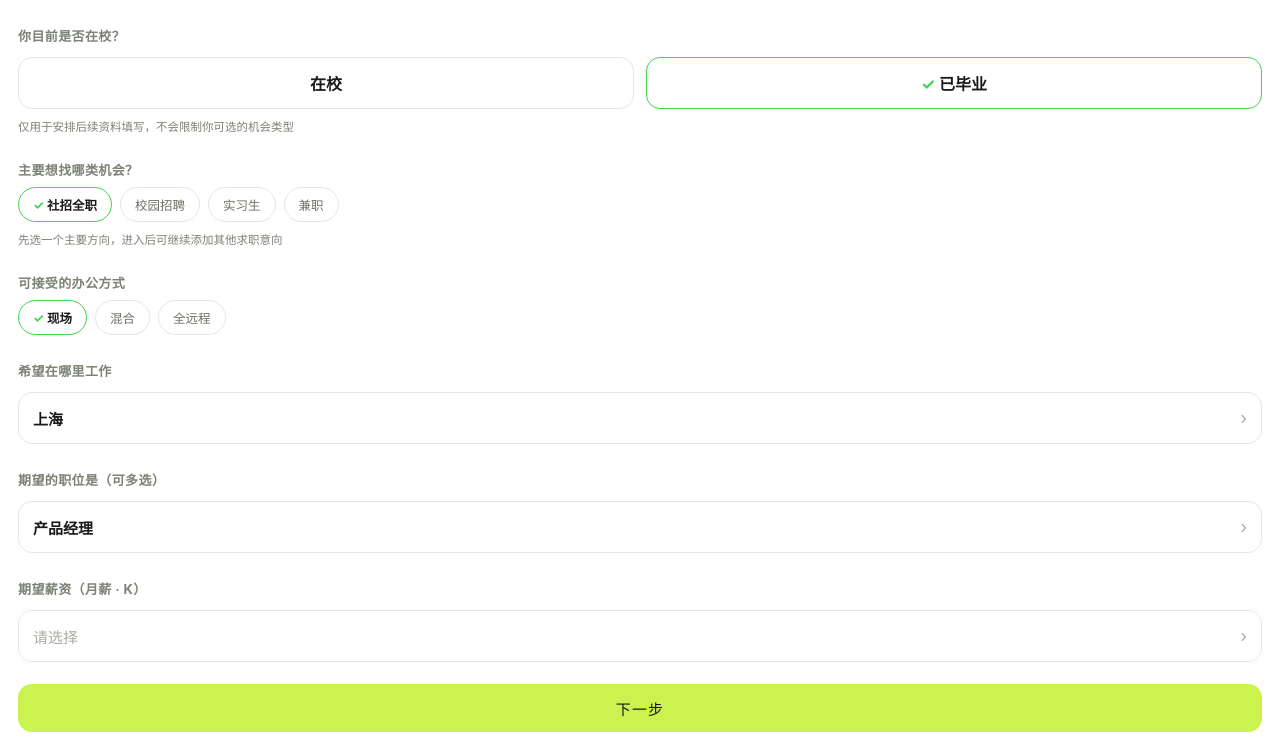
Test: 学生分流 · 首屏期望薪资（Task 3） › 打开抽屉确定区间：一次 存薪资预填，带当前周期与当前城市/职位 refs
(page scrolled)
Click the button with aria-label "期望薪资": [56, 637] box [18,610,1262,662]
(page scrolled)
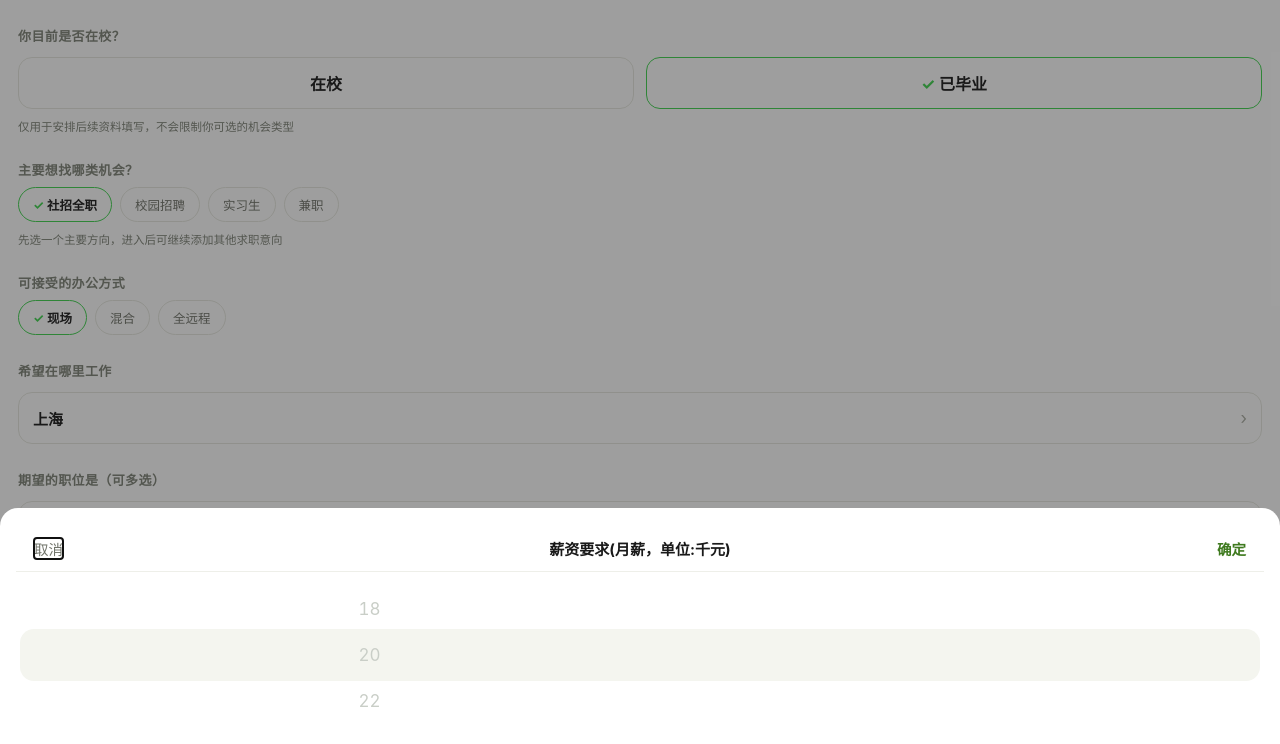
Click the option "20": [370, 655] box [358,645,380,665]
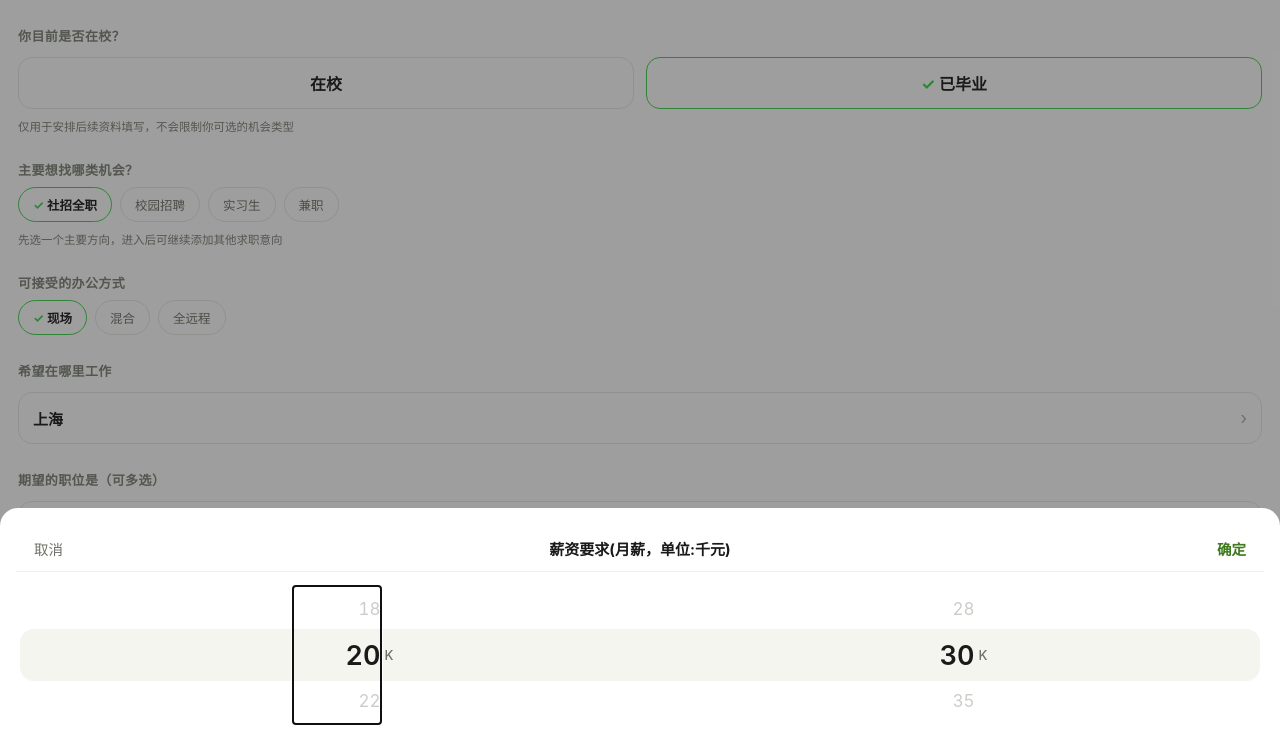
Click the option "30": [957, 655] box [940,639,974,672]
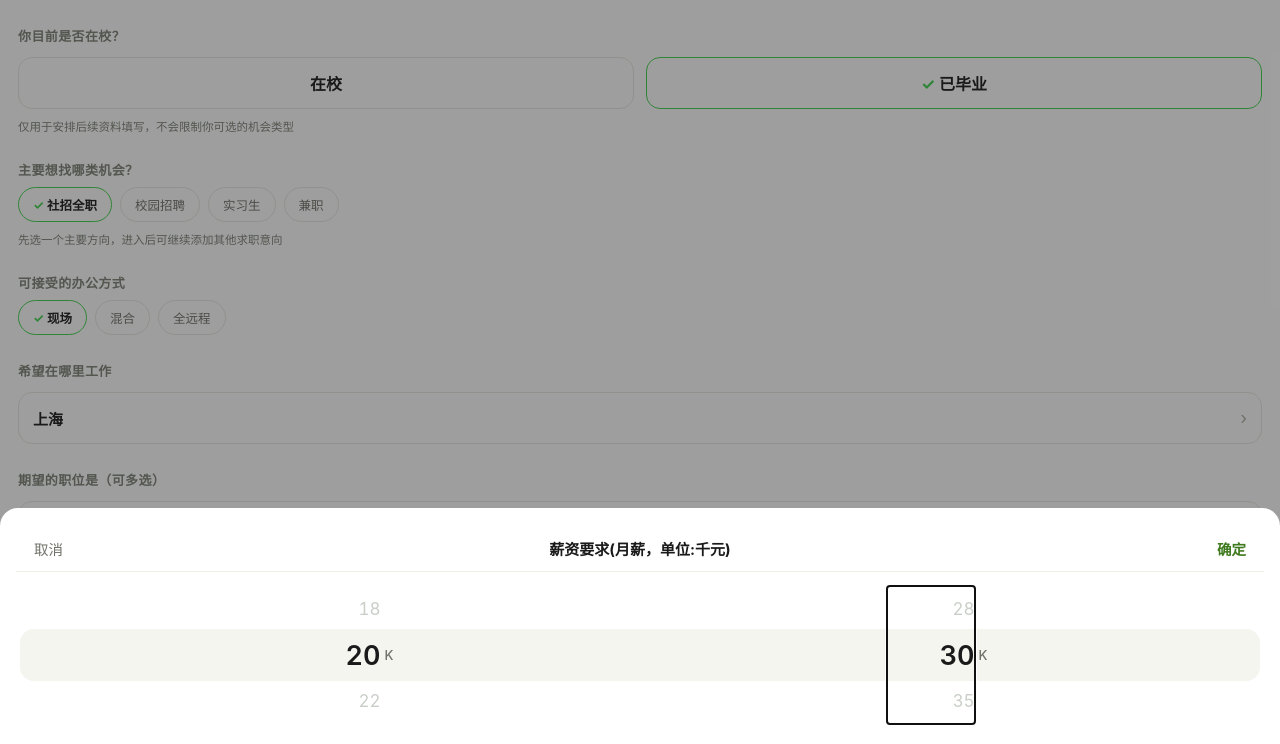
Click the button "确定": [1232, 549] box [1217,538,1246,559]
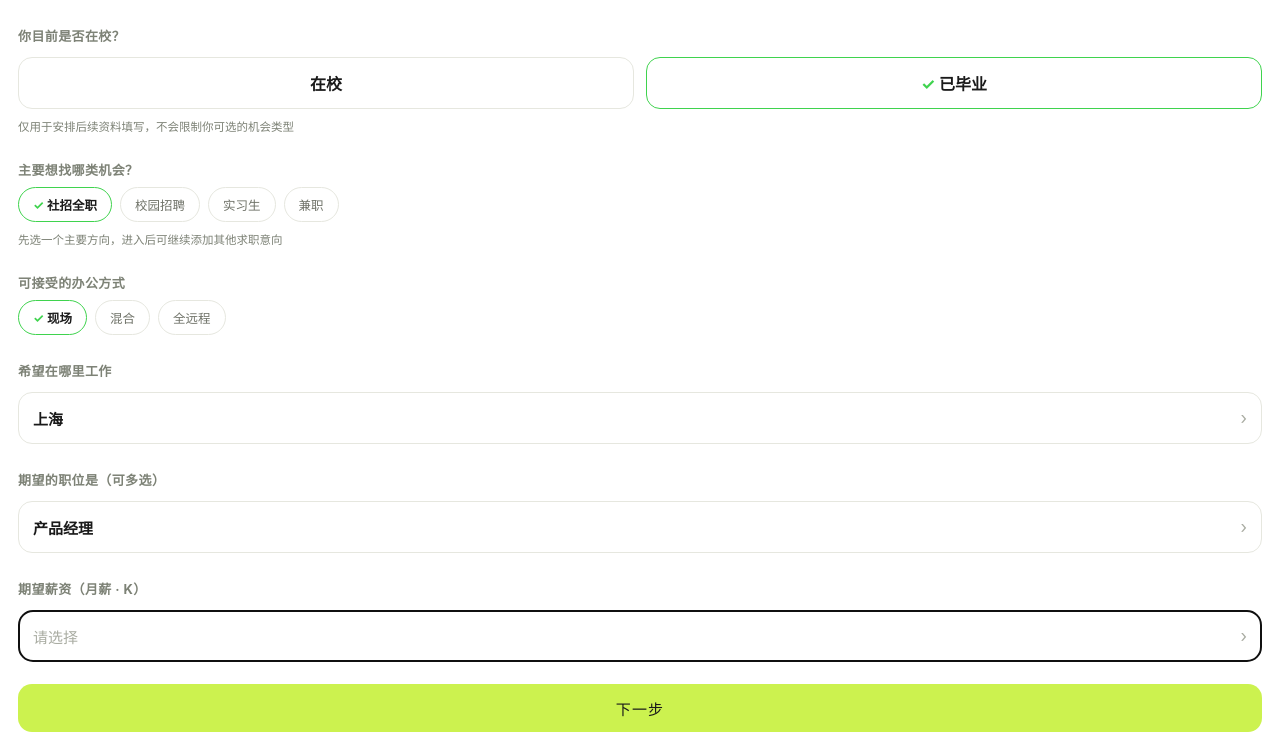
Check: the list "薪资下限" is gone
